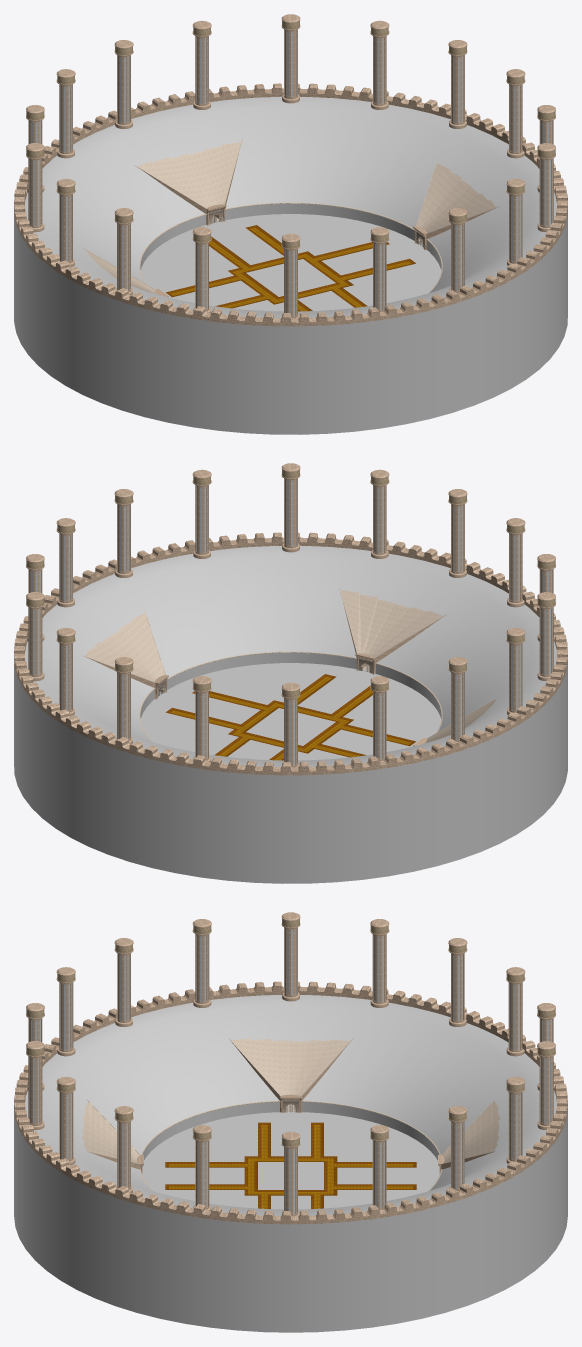
Rendered from circle_of_death.gltf.
3 renders of one model, top to bottom at view 1: azimuth 30°, elevation 25°; view 2: azimuth 150°, elevation 25°; view 3: azimuth 270°, elevation 25°, orthographic.
Visible parts, largest first — view 1: Mesh; view 2: Mesh; view 3: Mesh.
Boxes of the visible parts, left/top/right/bottom form: Mesh: left=14, top=14, right=567, bottom=434; Mesh: left=14, top=463, right=567, bottom=883; Mesh: left=14, top=912, right=567, bottom=1332.
Bounding box in the file's own units: 14404 × 5461 × 14404.
